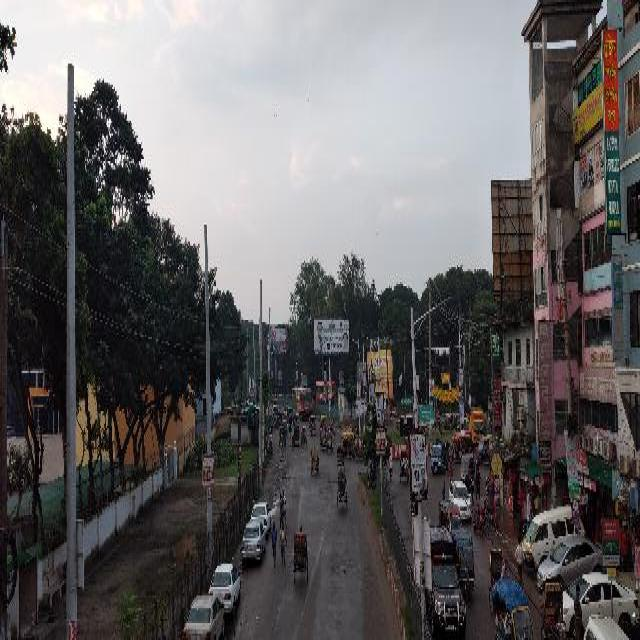bike: (474, 505, 484, 533), (486, 475, 493, 492), (485, 503, 489, 527)
vehicle: (430, 525, 466, 635), (563, 571, 635, 626), (523, 503, 585, 565), (539, 540, 604, 576), (493, 582, 534, 635), (183, 591, 225, 636), (209, 560, 241, 613), (453, 528, 476, 598), (540, 578, 566, 635), (489, 546, 509, 609), (243, 519, 266, 562), (450, 479, 473, 517), (294, 532, 309, 578), (440, 499, 463, 527), (251, 501, 271, 533), (469, 403, 485, 441), (450, 431, 470, 459), (431, 441, 449, 470), (316, 381, 336, 405), (462, 454, 475, 483), (298, 392, 313, 417), (341, 430, 355, 456), (478, 434, 490, 464), (337, 473, 347, 507), (400, 446, 409, 482), (293, 387, 312, 399), (311, 445, 319, 470), (337, 441, 345, 466), (327, 430, 334, 451), (320, 428, 326, 449), (302, 425, 308, 444), (279, 425, 285, 444), (294, 425, 300, 444), (310, 415, 316, 434), (320, 414, 328, 425), (277, 410, 282, 425), (287, 407, 293, 419)
